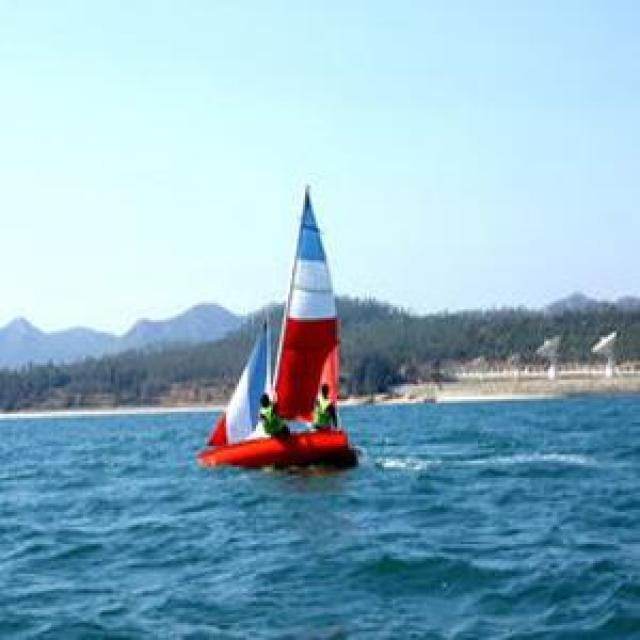sailboat: (194, 176, 361, 466)
